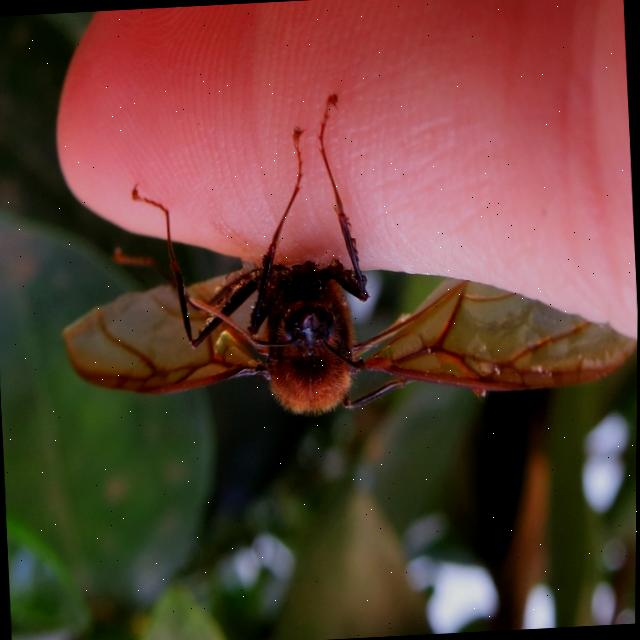Alive-Male-Alate: (46, 76, 640, 430)
